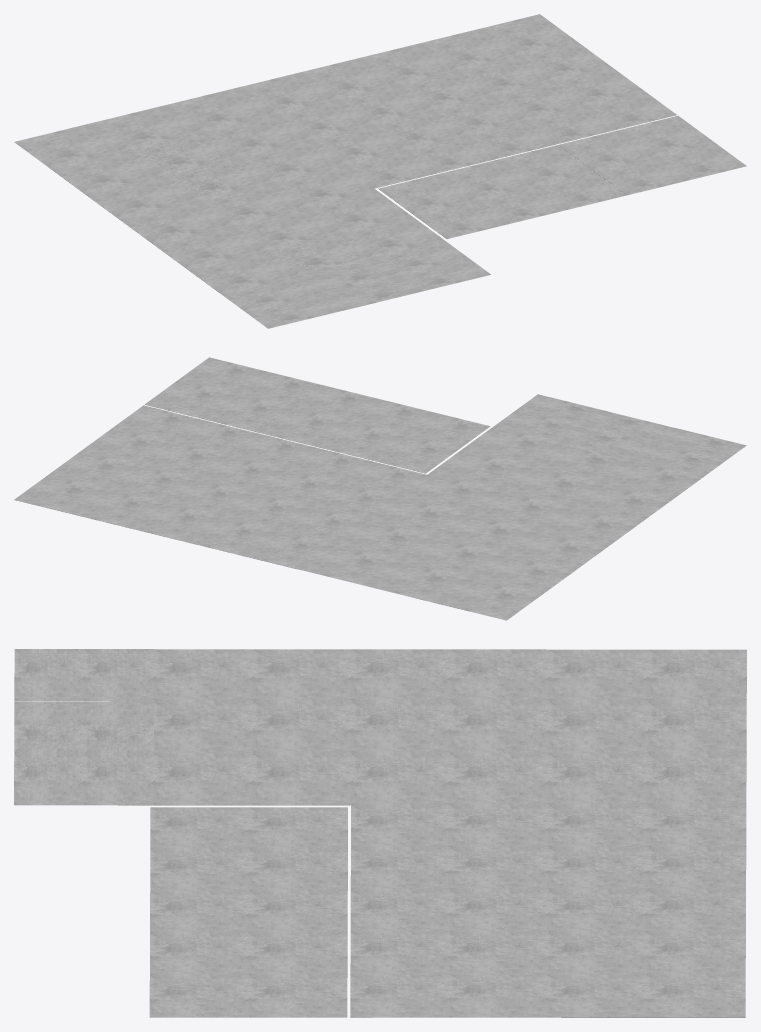
Rendered from pol.glb.
3 renders of one model, top to bottom at view 1: azimuth 30°, elevation 25°; view 2: azimuth 150°, elevation 25°; view 3: azimuth 270°, elevation 25°, orthographic. The views are drawn at different scales.
Parts seen in each view (by area): view 1: Куб.003, Куб.001; view 2: Куб.003, Куб.001; view 3: Куб.003, Куб.001.
Boxes of the visible parts, <box> form: Куб.003: <box>237,14,746,238</box>; Куб.001: <box>14,88,490,328</box>; Куб.003: <box>14,357,490,611</box>; Куб.001: <box>298,394,746,620</box>; Куб.003: <box>149,805,746,1017</box>; Куб.001: <box>14,649,746,805</box>.
Size of the model in its own units: 778 by 0.2023 by 654.
Materials: 5 (5 with a texture image).
